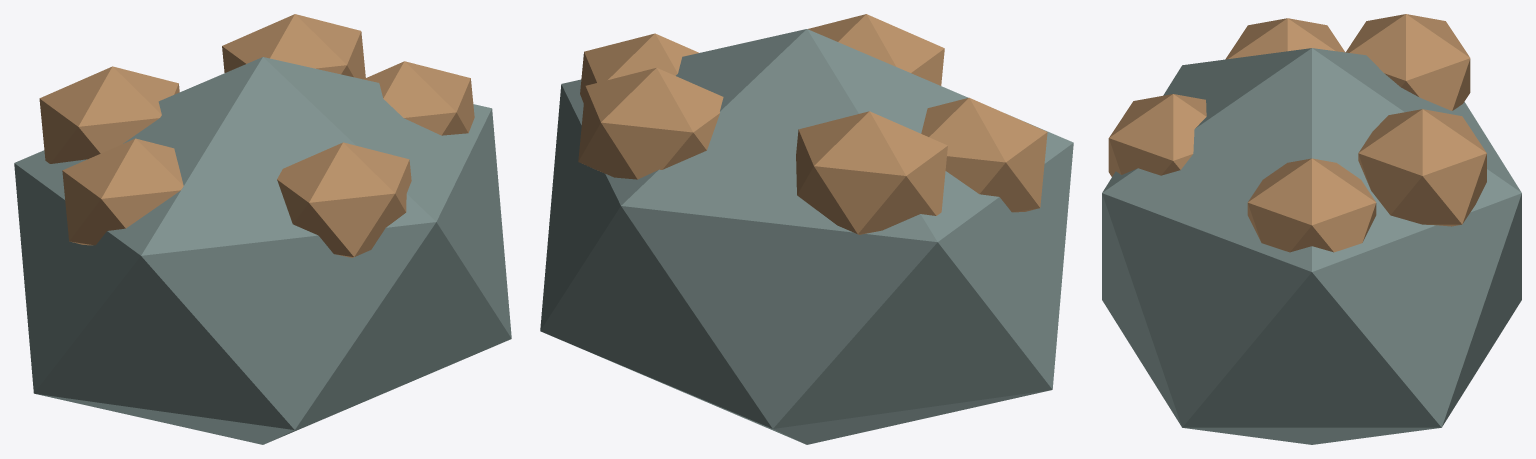
Rendered from copper.glb.
3 views of the same model, side by side, from view 1: azimuth 30°, elevation 25°; view 2: azimuth 150°, elevation 25°; view 3: azimuth 270°, elevation 25° (orthographic). The views are drawn at different scales.
Visible parts, largest first — view 1: OreBoulder, Copper2, Copper1, Copper4, Copper3, Copper0; view 2: OreBoulder, Copper1, Copper3, Copper4, Copper2, Copper0; view 3: OreBoulder, Copper3, Copper0, Copper1, Copper2, Copper4.
Part boxes in pixels (left/top/right/bottom): OreBoulder: left=14, top=57, right=511, bottom=444; Copper2: left=277, top=142, right=411, bottom=257; Copper1: left=39, top=66, right=179, bottom=163; Copper4: left=62, top=138, right=183, bottom=245; Copper3: left=222, top=14, right=365, bottom=79; Copper0: left=363, top=61, right=474, bottom=135; OreBoulder: left=540, top=29, right=1073, bottom=444; Copper1: left=796, top=111, right=947, bottom=234; Copper3: left=578, top=67, right=723, bottom=179; Copper4: left=921, top=97, right=1047, bottom=212; Copper2: left=808, top=14, right=944, bottom=85; Copper0: left=580, top=33, right=698, bottom=103; OreBoulder: left=1102, top=48, right=1521, bottom=444; Copper3: left=1358, top=109, right=1486, bottom=226; Copper0: left=1247, top=158, right=1376, bottom=252; Copper1: left=1345, top=14, right=1470, bottom=110; Copper2: left=1108, top=94, right=1206, bottom=176; Copper4: left=1225, top=18, right=1345, bottom=59.
Bounding box in the file's own units: 1.36 × 1.1 × 1.05.
